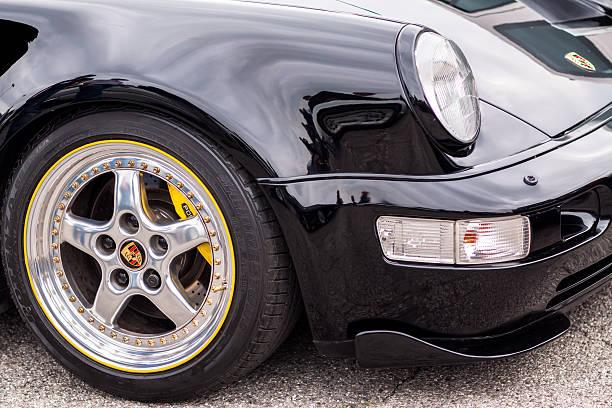porsche: (554, 42, 602, 76), (114, 238, 157, 273)
